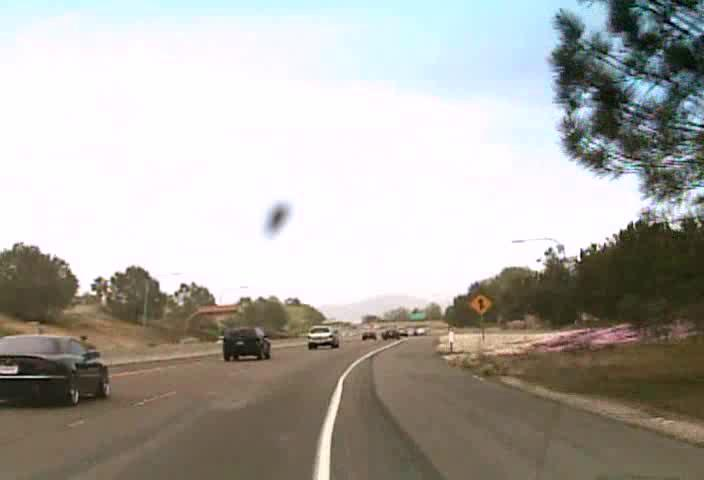merge: (468, 292, 493, 316)
